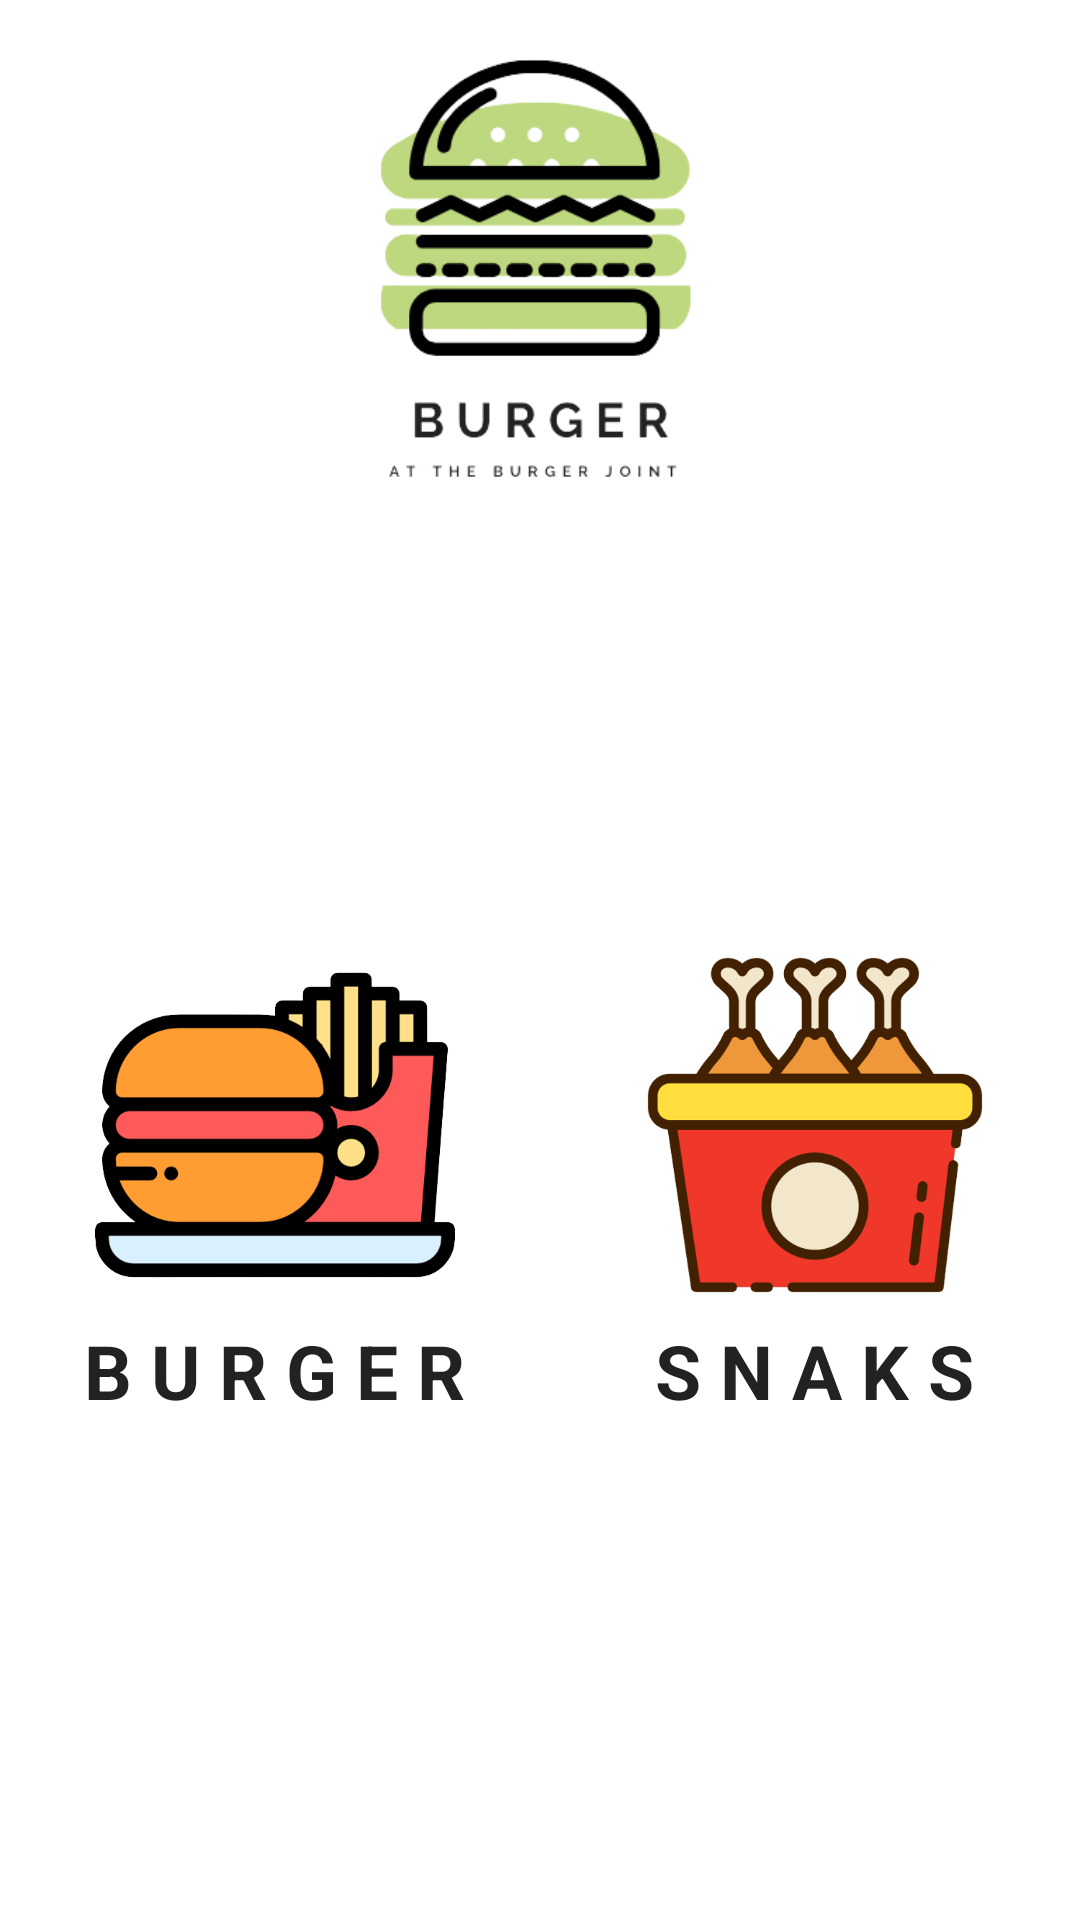

Where icons sit on this 1080w x 1920h app screen, as (x1, y1, x2, y2):
chicken: (648, 958, 982, 1292)
fast food: (95, 972, 455, 1278)
